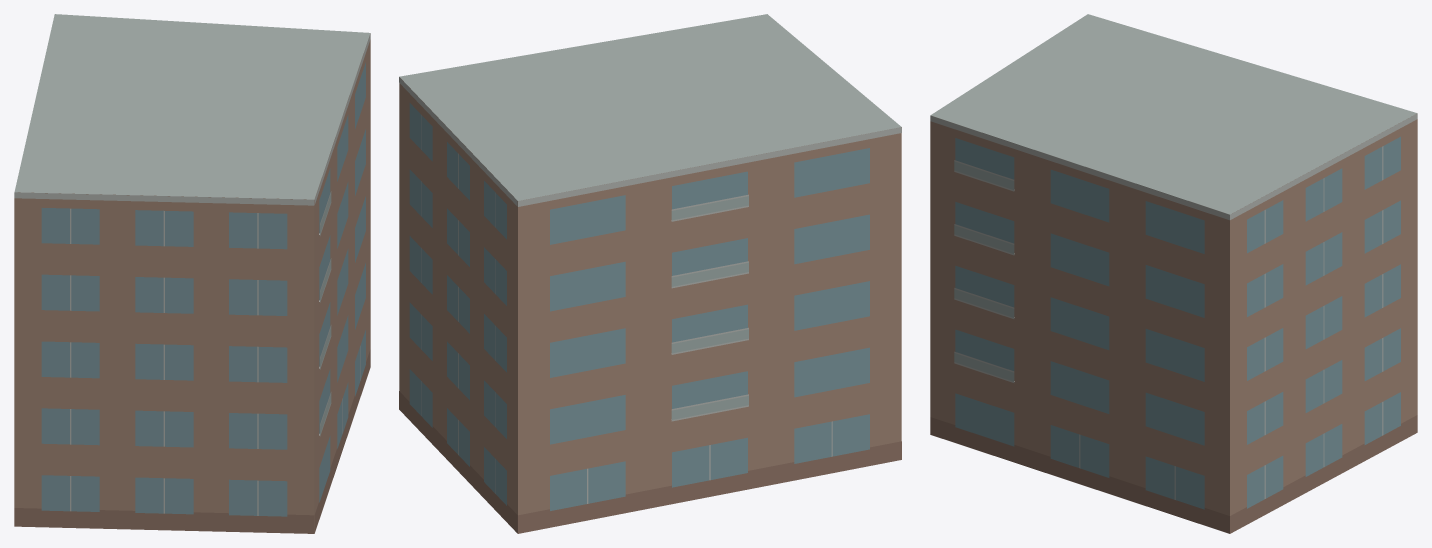
The model's file is survey-upis-32732507.glb.
3 renders of one model, left to right at view 1: azimuth 30°, elevation 25°; view 2: azimuth 150°, elevation 25°; view 3: azimuth 270°, elevation 25°, orthographic. The views are drawn at different scales.
Visible parts, largest first — view 1: survey-upis-32732507.tmp; view 2: survey-upis-32732507.tmp; view 3: survey-upis-32732507.tmp.
Part boxes in pixels (<box>): survey-upis-32732507.tmp: <box>14,14,370,533</box>; survey-upis-32732507.tmp: <box>399,14,901,533</box>; survey-upis-32732507.tmp: <box>930,14,1417,533</box>.
Size of the model in its own units: 18.34 by 13.6 by 18.83.
